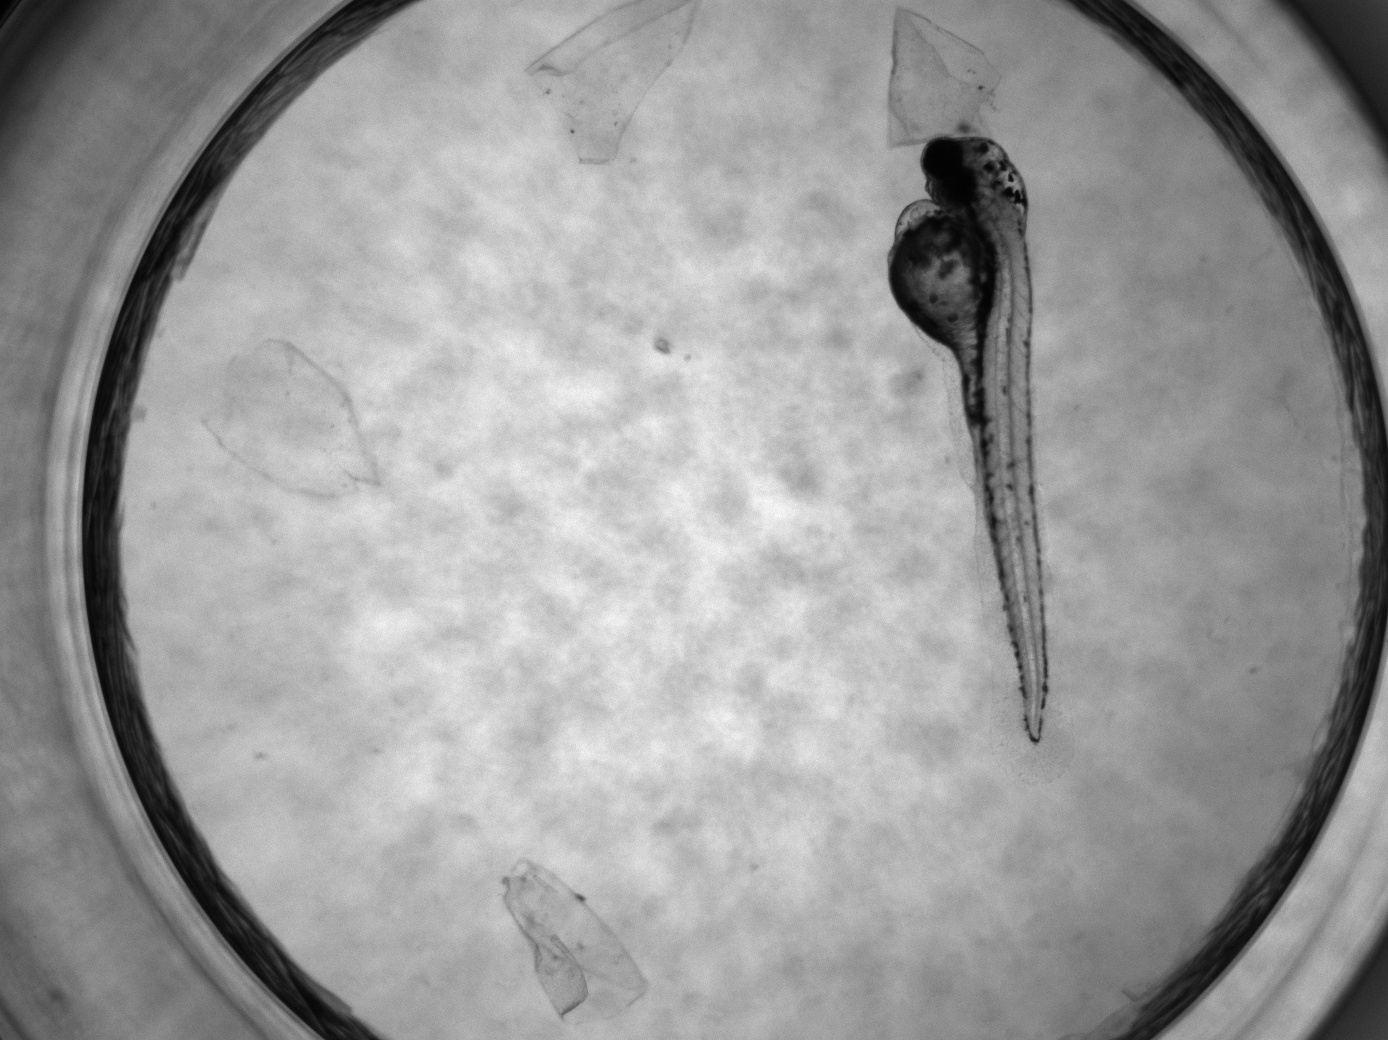debris: (523, 1, 701, 163), (502, 856, 651, 1024), (883, 3, 999, 142)
embryo: (889, 134, 1049, 745)
eye: (921, 137, 962, 176), (938, 165, 977, 206)
yolksac: (890, 200, 1000, 346)
